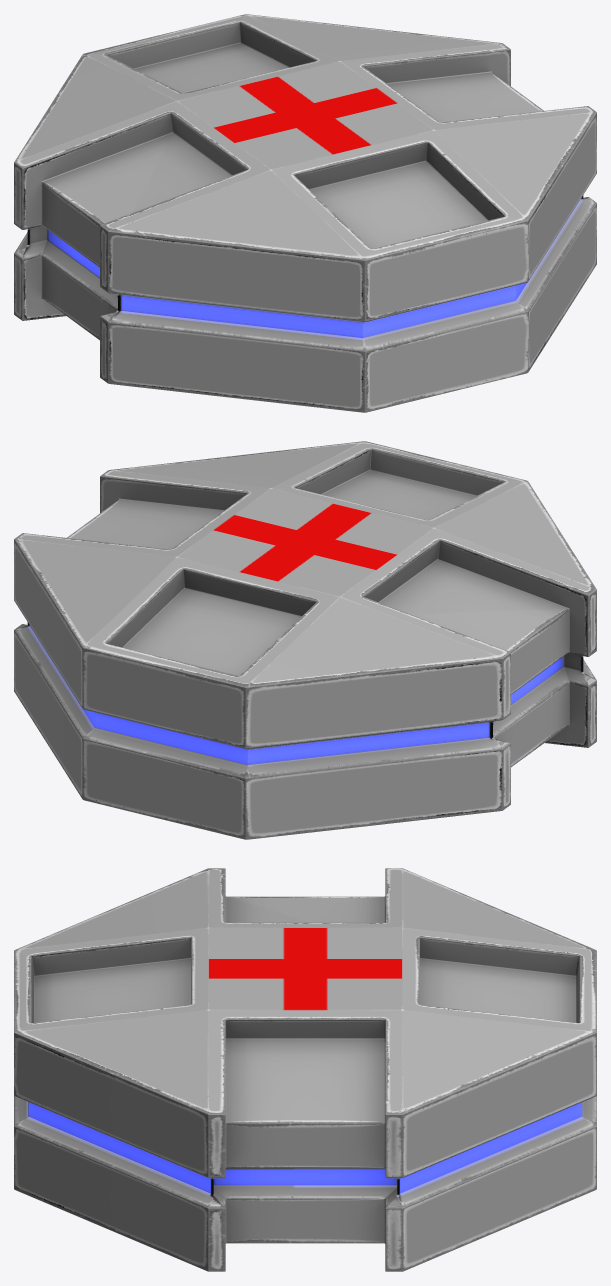
File: health_pack.glb
The picture shows the model from 3 angles, top to bottom: view 1: azimuth 30°, elevation 25°; view 2: azimuth 150°, elevation 25°; view 3: azimuth 270°, elevation 25°; orthographic projection. The views are drawn at different scales.
Parts seen in each view (by area): view 1: pCube1; view 2: pCube1; view 3: pCube1.
Boxes of the visible parts, x1=… form: pCube1: x1=14, y1=14, x2=596, y2=412; pCube1: x1=14, y1=441, x2=596, y2=839; pCube1: x1=14, y1=868, x2=596, y2=1271.
Bounding box in the file's own units: 200 × 76.52 × 200.
1 material, 1 textured.
